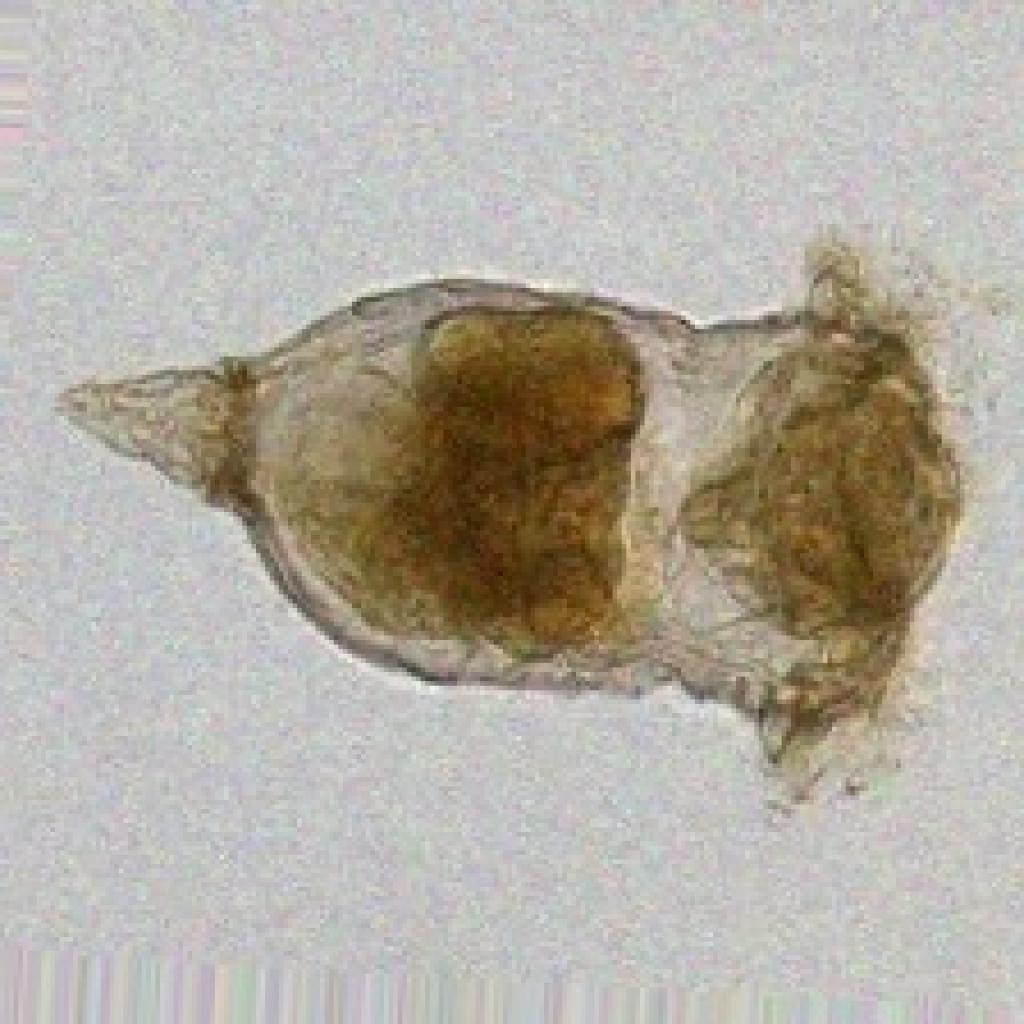Rotifer: (50, 228, 969, 804)
